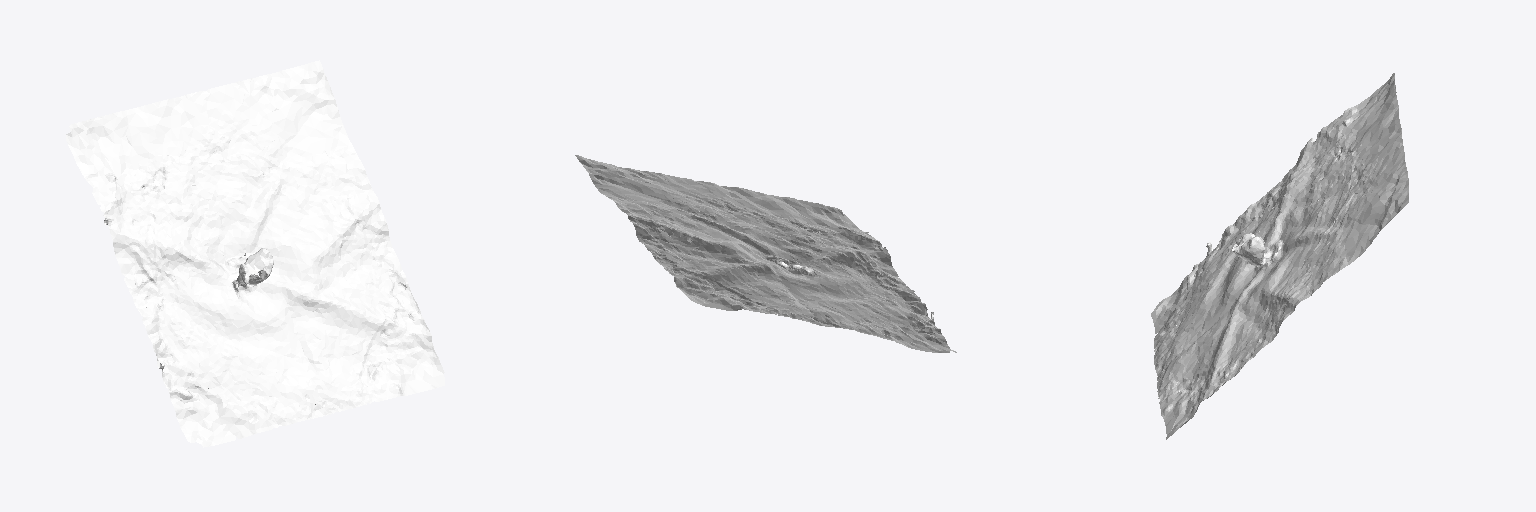
The model's file is owl2.obj.
3 renders of one model, left to right at view 1: azimuth 30°, elevation 25°; view 2: azimuth 150°, elevation 25°; view 3: azimuth 270°, elevation 25°, orthographic.
Size of the model in its own units: 4.13 by 3.53 by 3.42.